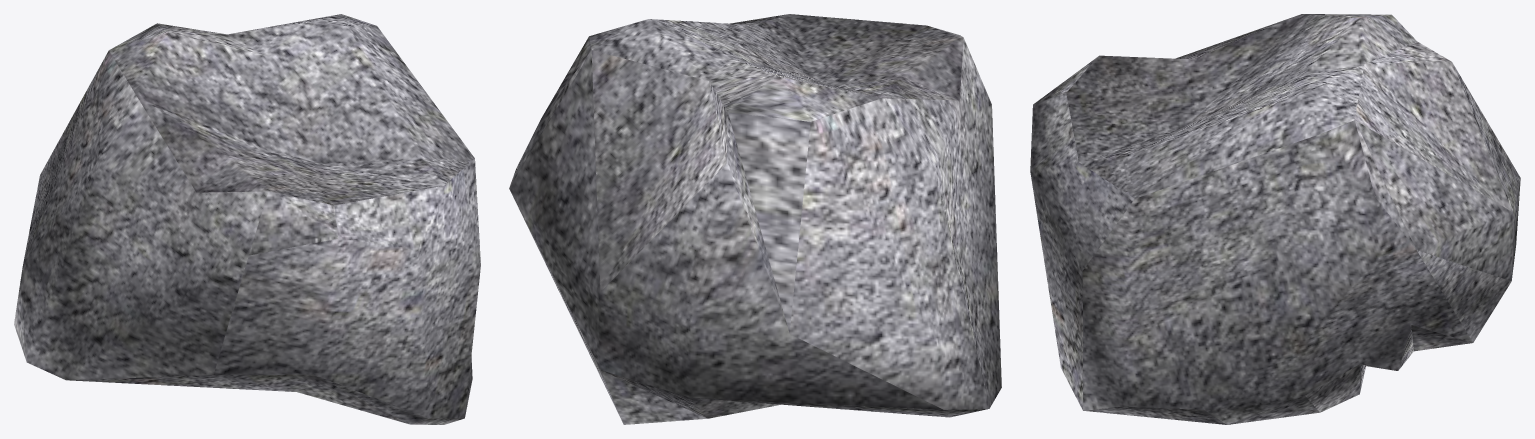
Rendered from Rock.FBX.
3 views of the same model, side by side, from view 1: azimuth 30°, elevation 25°; view 2: azimuth 150°, elevation 25°; view 3: azimuth 270°, elevation 25° (orthographic). The views are drawn at different scales.
Parts seen in each view (by area): view 1: Sphere001; view 2: Sphere001; view 3: Sphere001.
Part boxes in pixels (<box>): Sphere001: <box>14,14,480,424</box>; Sphere001: <box>509,14,1001,424</box>; Sphere001: <box>1030,14,1520,424</box>.
Bounding box in the file's own units: 51.26 × 42.93 × 56.59.
1 material, 1 textured.
